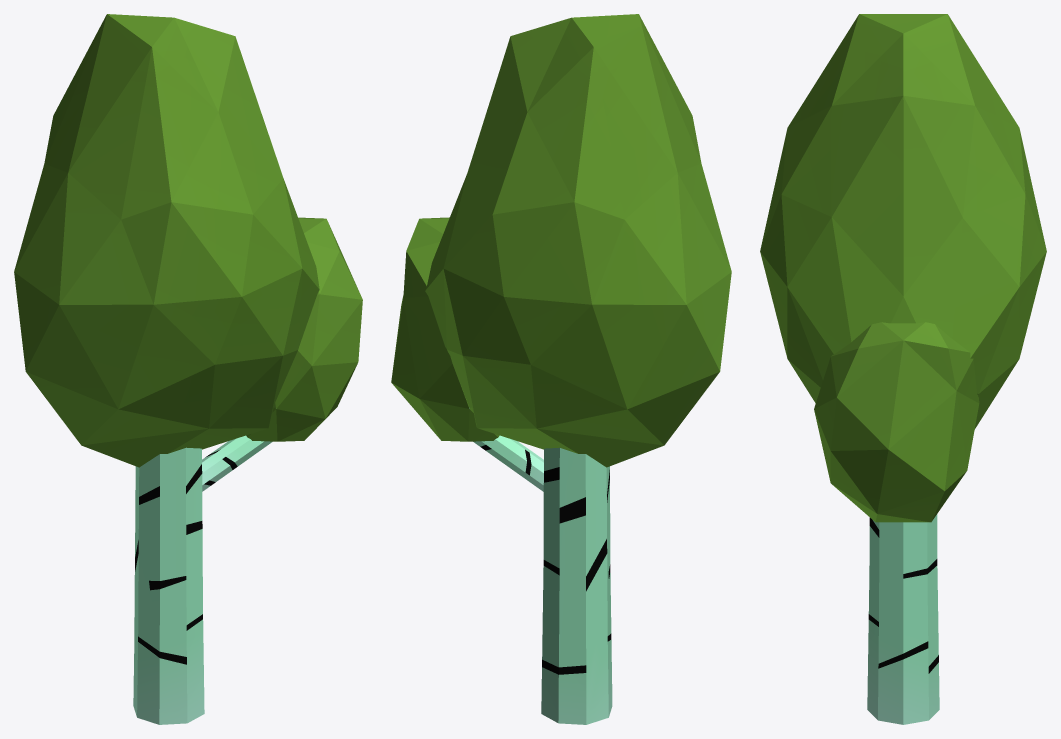
File: birch_medium.fbx
The picture shows the model from 3 angles, left to right: view 1: azimuth 30°, elevation 25°; view 2: azimuth 150°, elevation 25°; view 3: azimuth 270°, elevation 25°; orthographic projection.
Visible parts, largest first — view 1: birch_medium; view 2: birch_medium; view 3: birch_medium.
Part boxes in pixels (left/top/right/bottom): birch_medium: left=14, top=14, right=362, bottom=724; birch_medium: left=391, top=14, right=731, bottom=724; birch_medium: left=760, top=14, right=1046, bottom=724.
Size of the model in its own units: 2.97 by 6 by 2.3.
